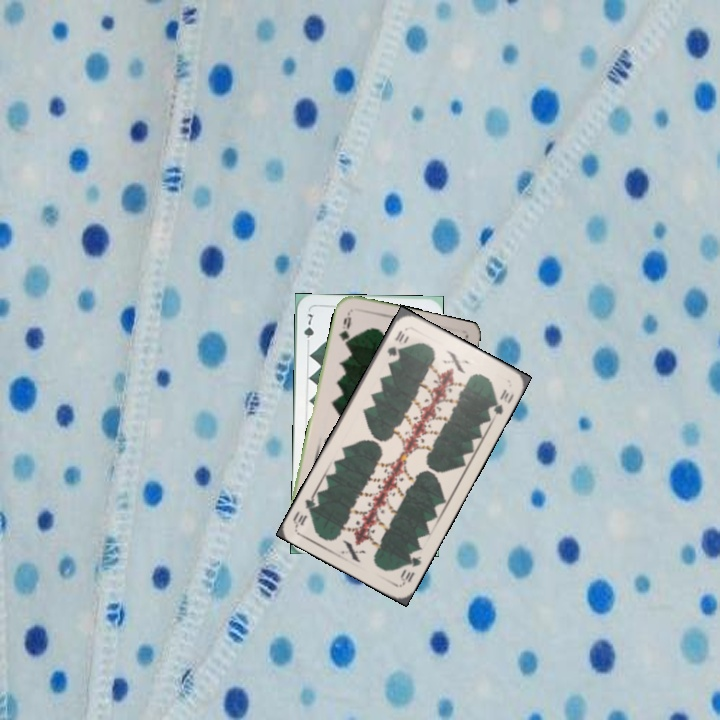G10: (396, 546, 424, 586), (383, 326, 407, 359)
G7: (300, 310, 316, 349)
G9: (334, 309, 354, 350)
